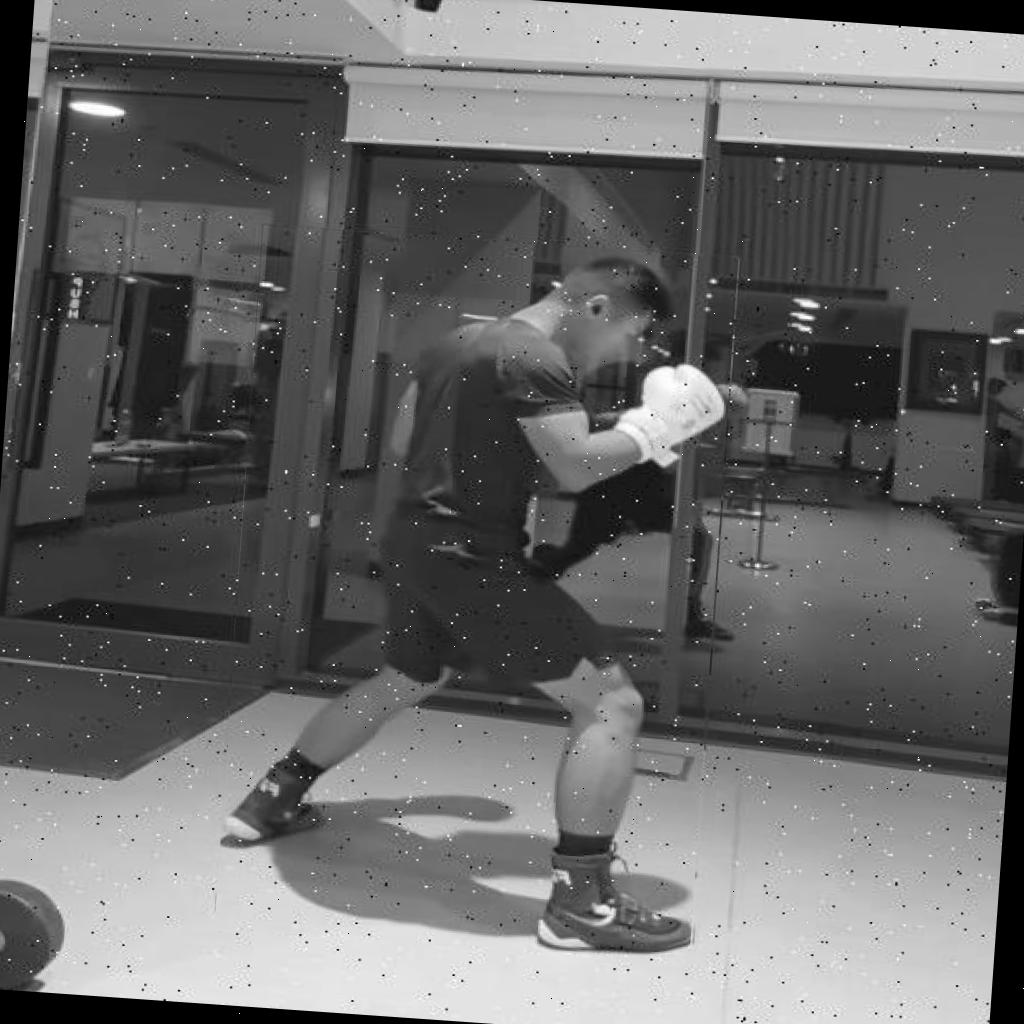no punch: (214, 224, 739, 961)
